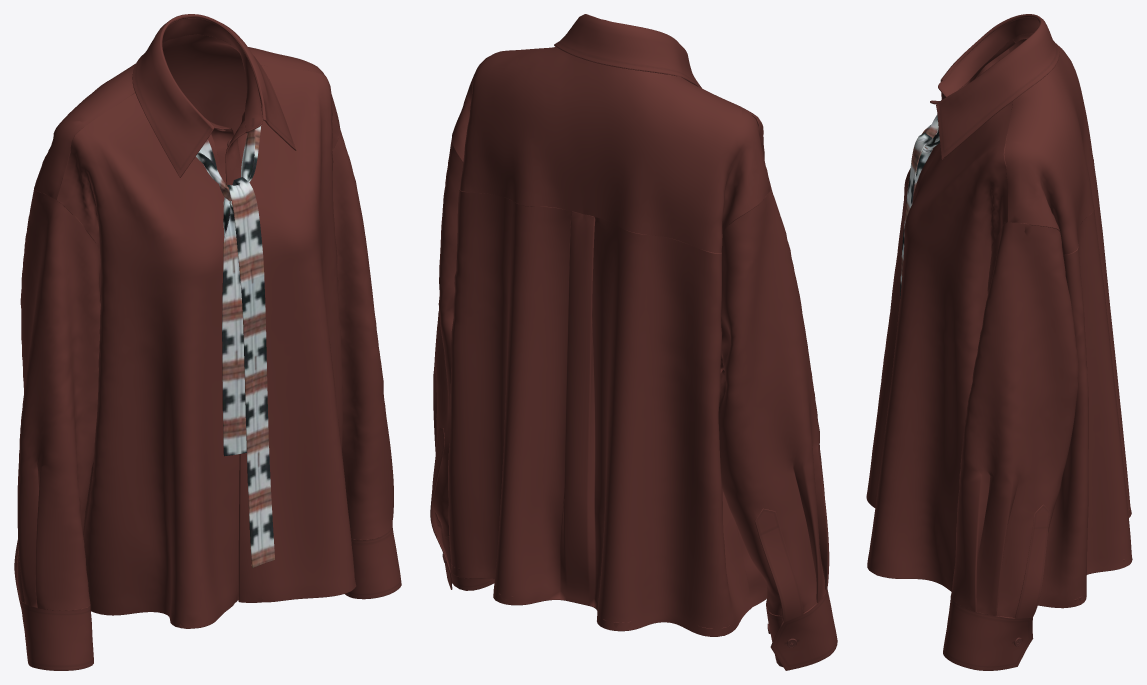
Rendered from source.glb.
The picture shows the model from 3 angles, left to right: view 1: azimuth 30°, elevation 25°; view 2: azimuth 150°, elevation 25°; view 3: azimuth 270°, elevation 25°; orthographic projection. The views are drawn at different scales.
Visible parts, largest first — view 1: Object_8, Object_7, Object_6, Object_9, Object_11, Object_10, Object_12, Object_14; view 2: Object_13, Object_9, Object_6, Object_11, Object_10, Object_14, Object_12, Object_8; view 3: Object_11, Object_7, Object_13, Object_9, Object_10, Object_8, Object_14.
Part boxes in pixels (left/top/right/bottom): Object_8: left=56, top=93, right=239, bottom=628; Object_7: left=211, top=65, right=356, bottom=602; Object_6: left=17, top=189, right=100, bottom=610; Object_9: left=34, top=34, right=340, bottom=568; Object_11: left=332, top=131, right=401, bottom=599; Object_10: left=132, top=14, right=296, bottom=628; Object_12: left=19, top=600, right=93, bottom=670; Object_14: left=14, top=120, right=354, bottom=602; Object_13: left=448, top=190, right=752, bottom=636; Object_9: left=452, top=47, right=771, bottom=253; Object_6: left=718, top=189, right=829, bottom=615; Object_11: left=433, top=138, right=494, bottom=590; Object_10: left=554, top=14, right=701, bottom=88; Object_14: left=430, top=428, right=803, bottom=636; Object_12: left=766, top=588, right=837, bottom=670; Object_8: left=716, top=95, right=767, bottom=606; Object_11: left=943, top=222, right=1078, bottom=670; Object_7: left=867, top=88, right=1012, bottom=591; Object_13: left=1038, top=160, right=1131, bottom=608; Object_9: left=900, top=33, right=1094, bottom=298; Object_10: left=930, top=14, right=1059, bottom=159; Object_8: left=866, top=38, right=1015, bottom=507; Object_14: left=872, top=129, right=1132, bottom=618.
Bounding box in the file's own units: 509 × 786 × 332.
1 material, 1 textured.
